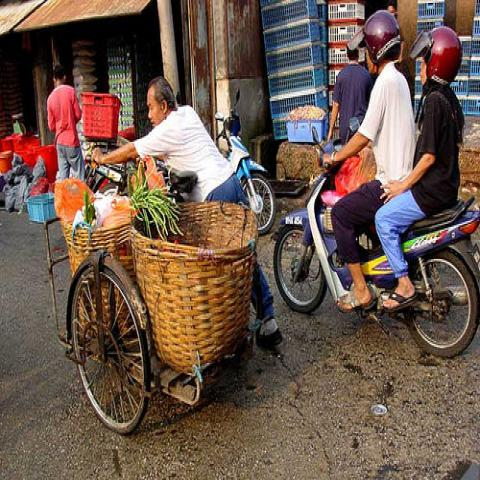motorcycle: (272, 117, 479, 360), (216, 88, 276, 235)
